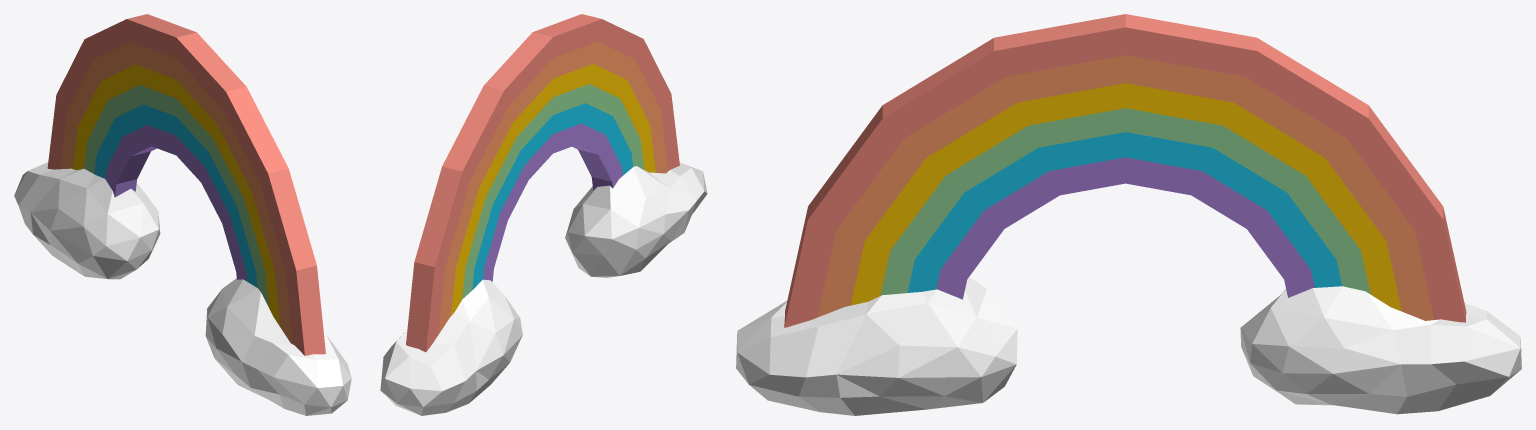
File: Rainbow_01.gltf
The picture shows the model from 3 angles, left to right: view 1: azimuth 30°, elevation 25°; view 2: azimuth 150°, elevation 25°; view 3: azimuth 270°, elevation 25°; orthographic projection. The views are drawn at different scales.
Visible parts, largest first — view 1: node-0; view 2: node-0; view 3: node-0.
Boxes of the visible parts, x1,y1,x2,y2 form: node-0: (14, 14, 351, 415); node-0: (380, 14, 707, 415); node-0: (736, 14, 1521, 415).
Size of the model in its own units: 3.27 by 9.97 by 18.33.
